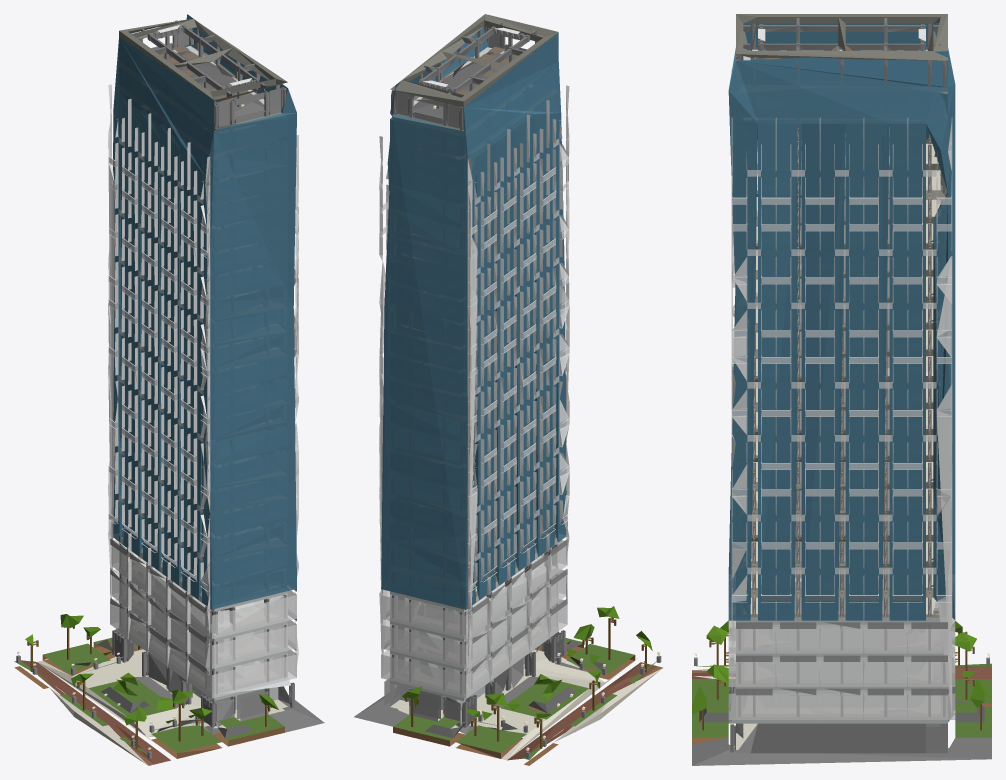
3 renders of one model, left to right at view 1: azimuth 30°, elevation 25°; view 2: azimuth 150°, elevation 25°; view 3: azimuth 270°, elevation 25°, orthographic. The views are drawn at different scales.
Parts seen in each view (by area): view 1: Object_3, Object_25, Object_21, Object_6, Object_24, Object_18, Object_12, Object_8, Object_9, Object_11, Object_16, Object_19 (+4 smaller); view 2: Object_3, Object_25, Object_21, Object_12, Object_6, Object_18, Object_24, Object_8, Object_9, Object_11, Object_16, Object_19 (+4 smaller); view 3: Object_3, Object_25, Object_21, Object_8, Object_18, Object_24, Object_16, Object_6, Object_12, Object_4, Object_19, Object_9 (+3 smaller).
Part boxes in pixels (box(x1,y1,x2,y2)): Object_3: box(113, 14, 296, 609); Object_25: box(108, 84, 298, 698); Object_21: box(16, 20, 294, 758); Object_6: box(14, 637, 284, 757); Object_24: box(110, 32, 296, 726); Object_18: box(119, 538, 290, 709); Object_12: box(37, 50, 287, 765); Object_8: box(119, 18, 287, 662); Object_9: box(25, 614, 278, 725); Object_11: box(21, 660, 170, 764); Object_16: box(81, 62, 324, 734); Object_19: box(108, 114, 298, 674); Object_3: box(381, 26, 567, 609); Object_25: box(379, 85, 569, 698); Object_21: box(391, 21, 661, 758); Object_12: box(390, 53, 662, 760); Object_6: box(393, 638, 656, 759); Object_18: box(390, 457, 558, 709); Object_24: box(381, 27, 567, 726); Object_8: box(390, 14, 558, 663); Object_9: box(402, 606, 652, 720); Object_11: box(507, 662, 657, 760); Object_16: box(354, 60, 603, 738); Object_19: box(379, 115, 569, 674); Object_3: box(728, 22, 955, 620); Object_25: box(728, 69, 955, 720); Object_21: box(694, 18, 989, 753); Object_8: box(736, 14, 947, 683); Object_18: box(728, 126, 947, 723); Object_24: box(728, 608, 955, 753); Object_16: box(692, 46, 991, 765); Object_6: box(692, 663, 991, 737); Object_12: box(692, 144, 940, 749); Object_4: box(753, 123, 930, 619); Object_19: box(732, 196, 951, 654); Object_9: box(692, 620, 991, 714).
Bounding box in the file's own units: 32 × 106 × 41.
